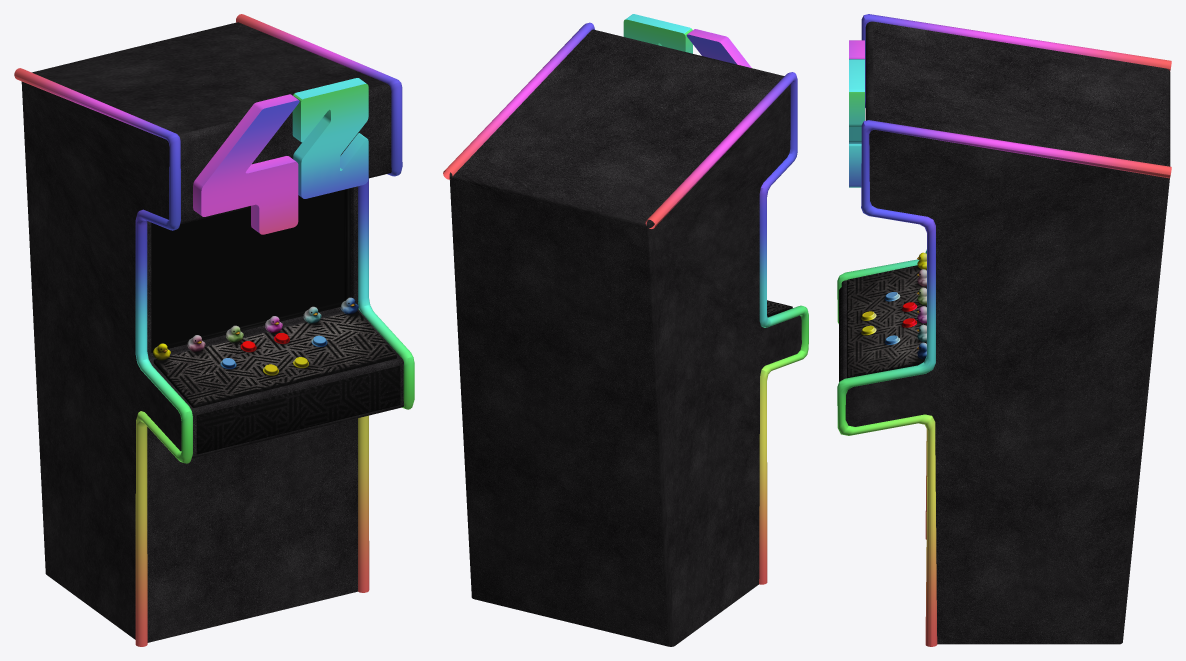
Rendered from arcade.fbx.
The picture shows the model from 3 angles, left to right: view 1: azimuth 30°, elevation 25°; view 2: azimuth 150°, elevation 25°; view 3: azimuth 270°, elevation 25°; orthographic projection. The views are drawn at different scales.
Visible parts, largest first — view 1: arcade_body, led_strips, 42_logo_leds, ducks_001_body, buttons; view 2: arcade_body, led_strips, 42_logo_leds; view 3: arcade_body, led_strips, 42_logo_leds, ducks_001_body, buttons.
Part boxes in pixels (x1,y1,x2,y2): arcade_body: [21, 22, 403, 642]; led_strips: [14, 14, 414, 646]; 42_logo_leds: [193, 78, 368, 234]; ducks_001_body: [153, 297, 358, 360]; buttons: [220, 333, 327, 375]; arcade_body: [449, 29, 801, 646]; led_strips: [443, 22, 808, 584]; 42_logo_leds: [623, 14, 751, 67]; arcade_body: [839, 21, 1170, 644]; led_strips: [837, 14, 1171, 646]; 42_logo_leds: [849, 40, 864, 187]; ducks_001_body: [917, 252, 926, 359]; buttons: [861, 292, 917, 344].
Bounding box in the file's own units: 0.4393 × 0.9891 × 0.5591.
